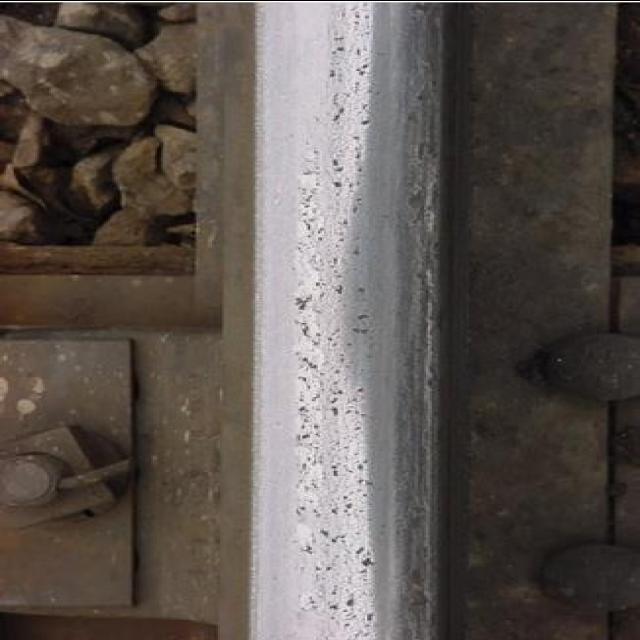squats_high: (287, 4, 383, 634)
